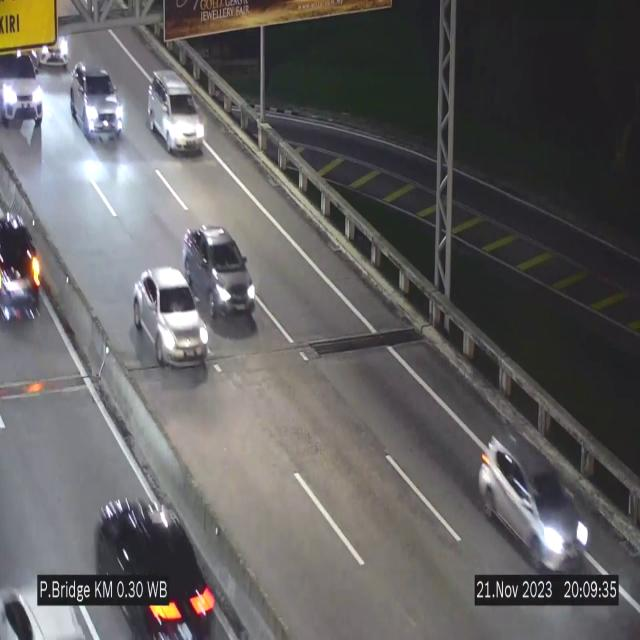Car: (94, 484, 218, 640), (480, 433, 590, 580), (133, 268, 210, 369), (0, 548, 82, 640), (184, 226, 256, 320), (0, 201, 46, 336), (148, 71, 205, 154), (71, 62, 125, 140), (0, 55, 42, 134), (30, 23, 72, 73)
